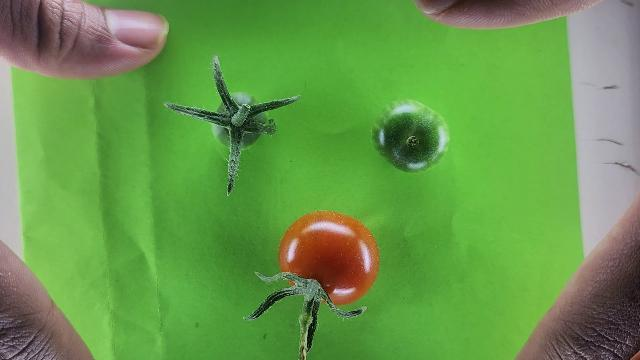Fruit Maturation: (372, 98, 450, 174), (213, 92, 268, 150)
Fully Grown: (276, 209, 382, 307)
